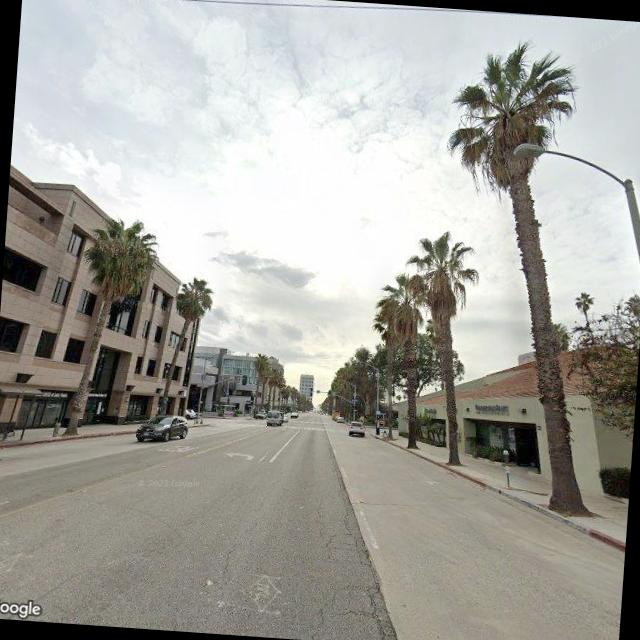crack: (295, 494, 395, 640), (213, 512, 259, 589)
